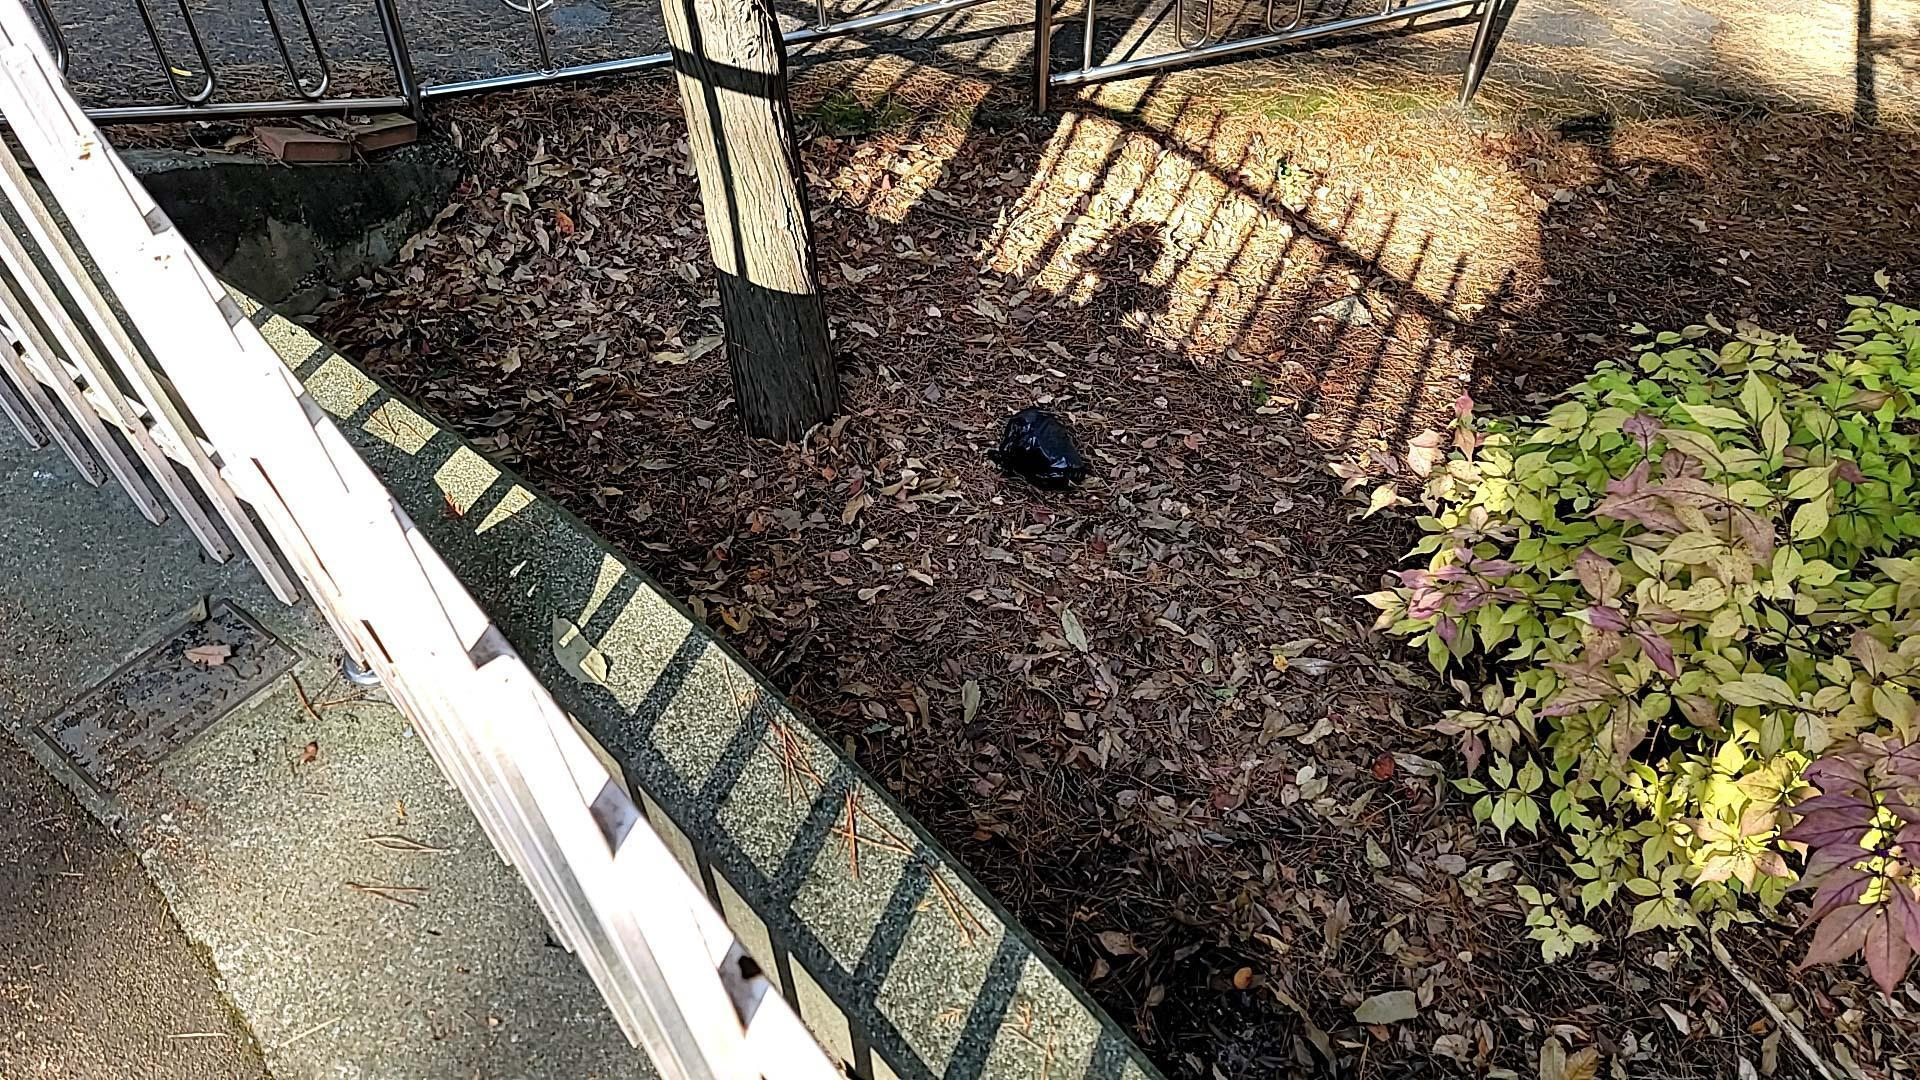black_bag: (986, 404, 1092, 492)
